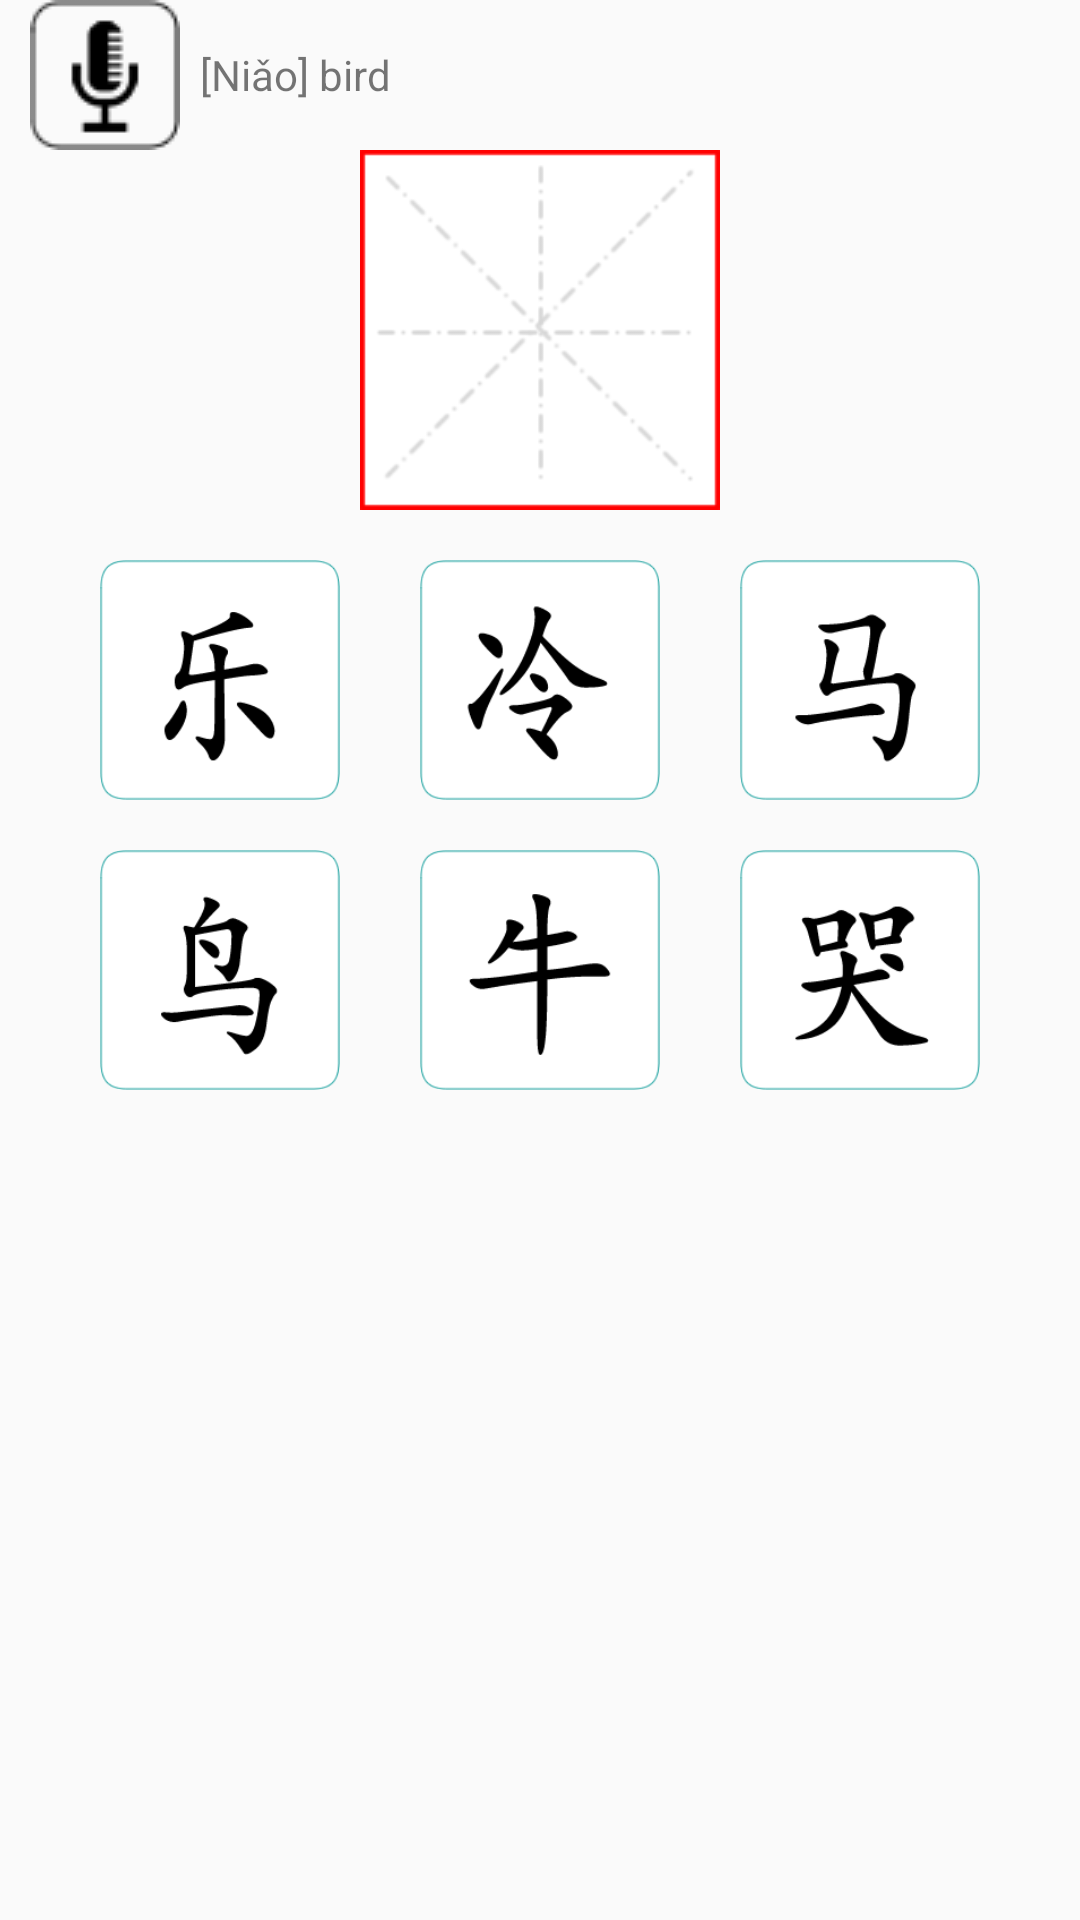

Icons on this 1080px×1920px Android screen, each with its box as (x1, y1, x2, y2):
micsicon: (30, 0, 180, 150)
